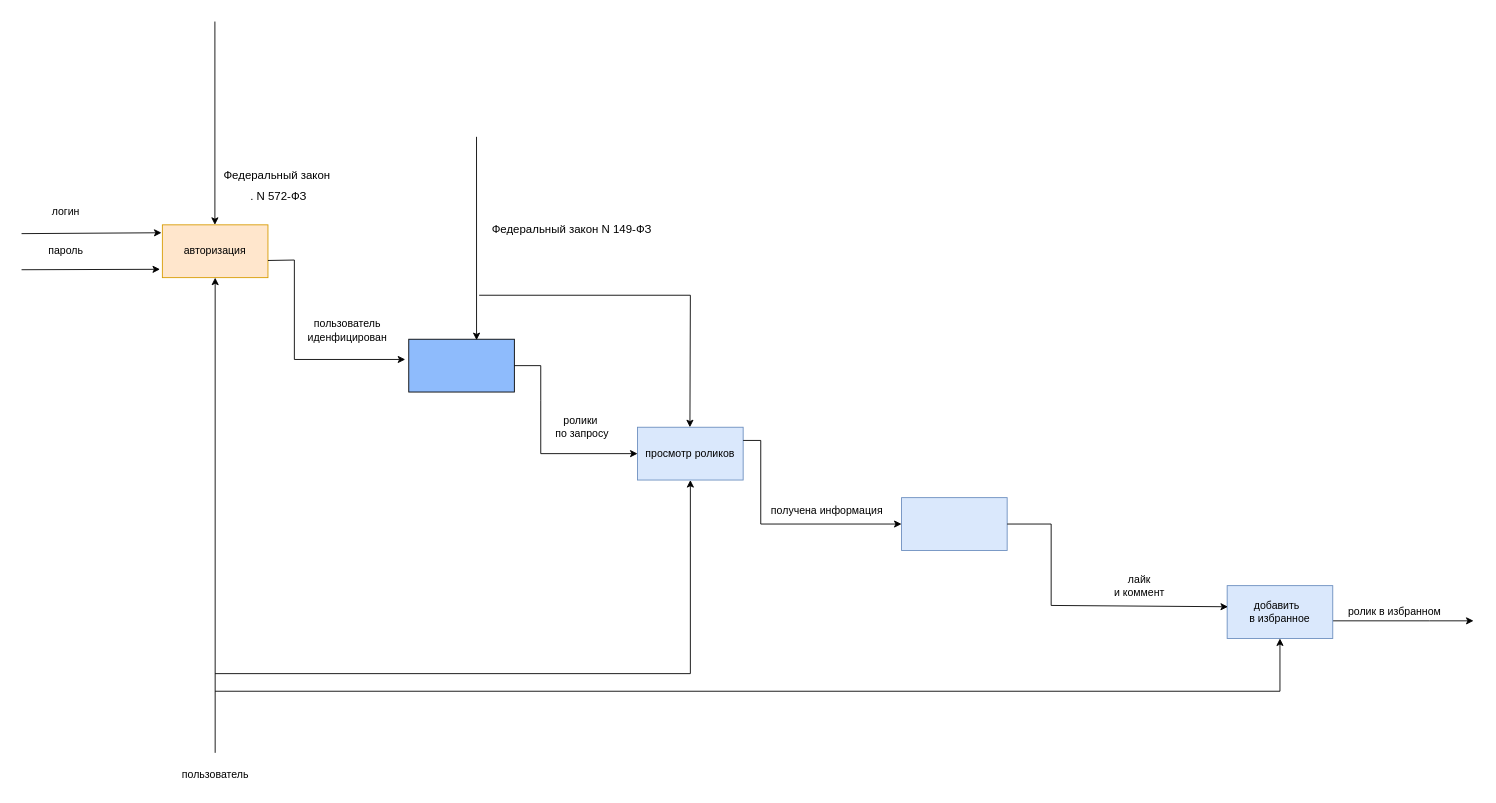
Some shapes in this 1496 by 803 pixel diagram are drawn without their labels. Here are the shapes that lost their labels. From the top down, the centre of each, then its label:
At (461,365): "поиск роликов".
At (954,523): "поставить лайк или оставить комментарий".
